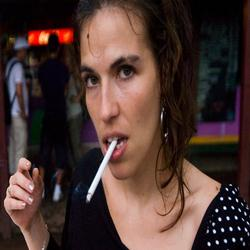smoking: (80, 131, 131, 205)
